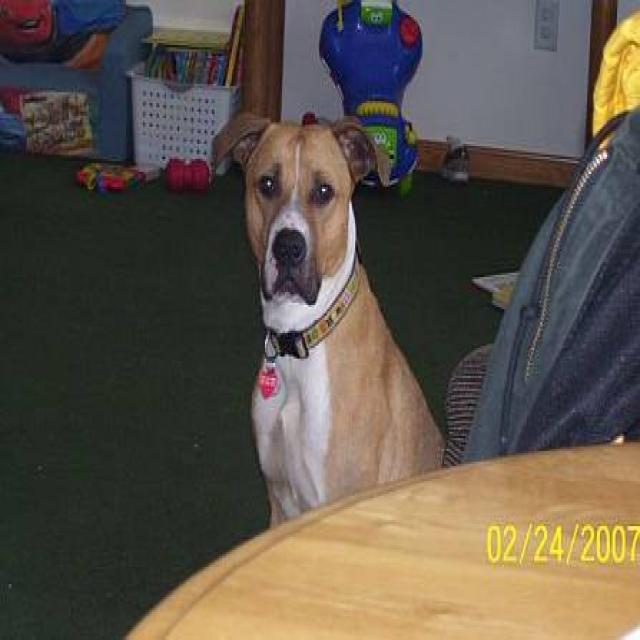dog: (210, 108, 447, 528)
